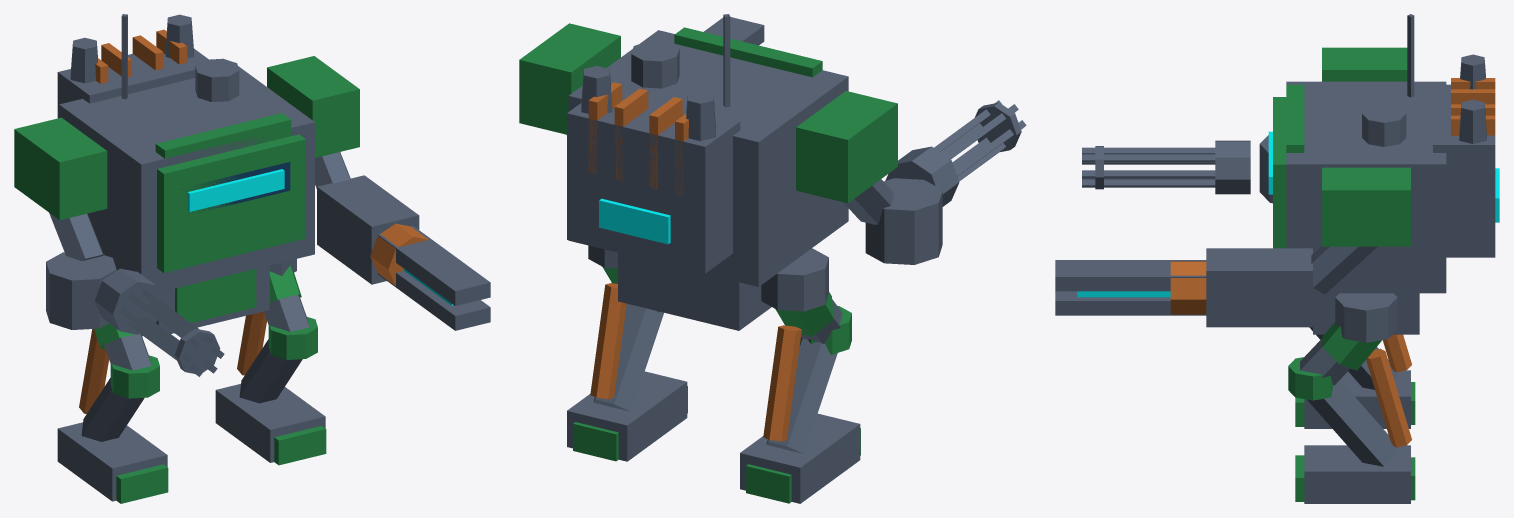
File: vanguard.obj
3 views of the same model, side by side, from view 1: azimuth 30°, elevation 25°; view 2: azimuth 150°, elevation 25°; view 3: azimuth 270°, elevation 25° (orthographic). The views are drawn at different scales.
Parts seen in each view (by area): view 1: ModelMesh; view 2: ModelMesh; view 3: ModelMesh.
Part boxes in pixels (<box>): ModelMesh: <box>14,14,490,503</box>; ModelMesh: <box>519,14,1026,503</box>; ModelMesh: <box>1055,14,1499,503</box>.
Size of the model in its own units: 0.412 by 0.52 by 0.5.
